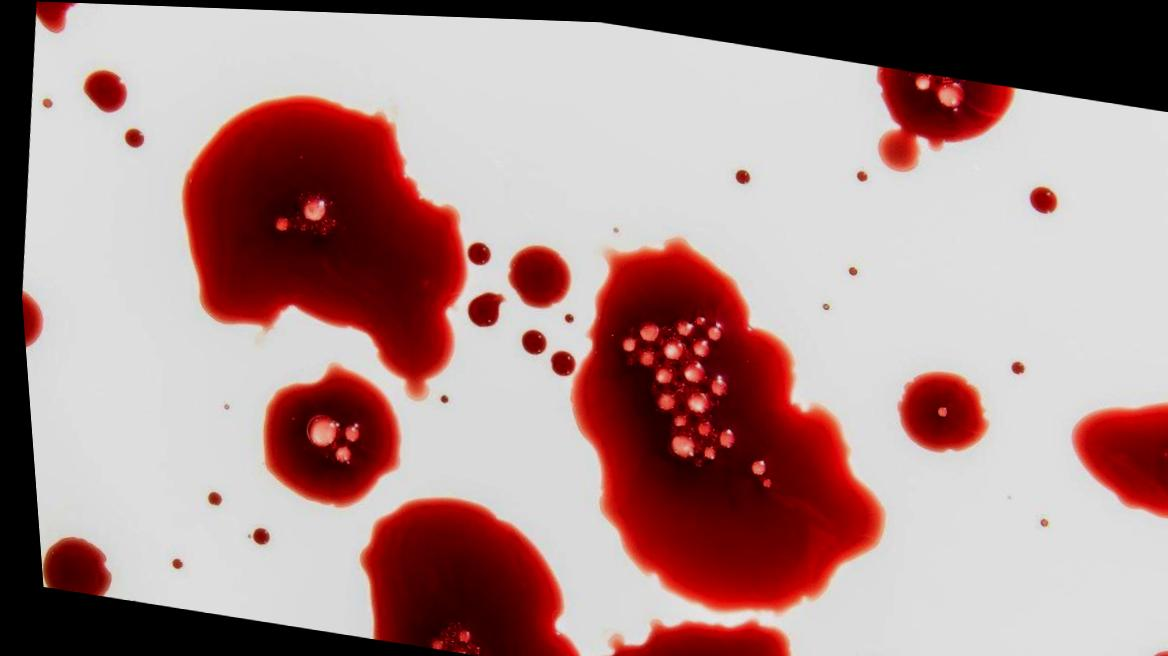Fire: (564, 230, 878, 608), (178, 92, 464, 397), (350, 493, 573, 656), (256, 359, 395, 505), (875, 59, 1014, 164), (1064, 392, 1168, 509), (891, 362, 983, 445), (33, 535, 103, 596), (503, 239, 567, 304), (81, 68, 126, 111), (462, 287, 501, 322), (35, 1, 77, 32), (17, 290, 39, 347), (1027, 177, 1055, 204), (516, 324, 542, 350), (545, 345, 570, 371), (464, 237, 487, 261), (1137, 641, 1168, 656), (244, 525, 262, 543), (200, 490, 214, 503)
